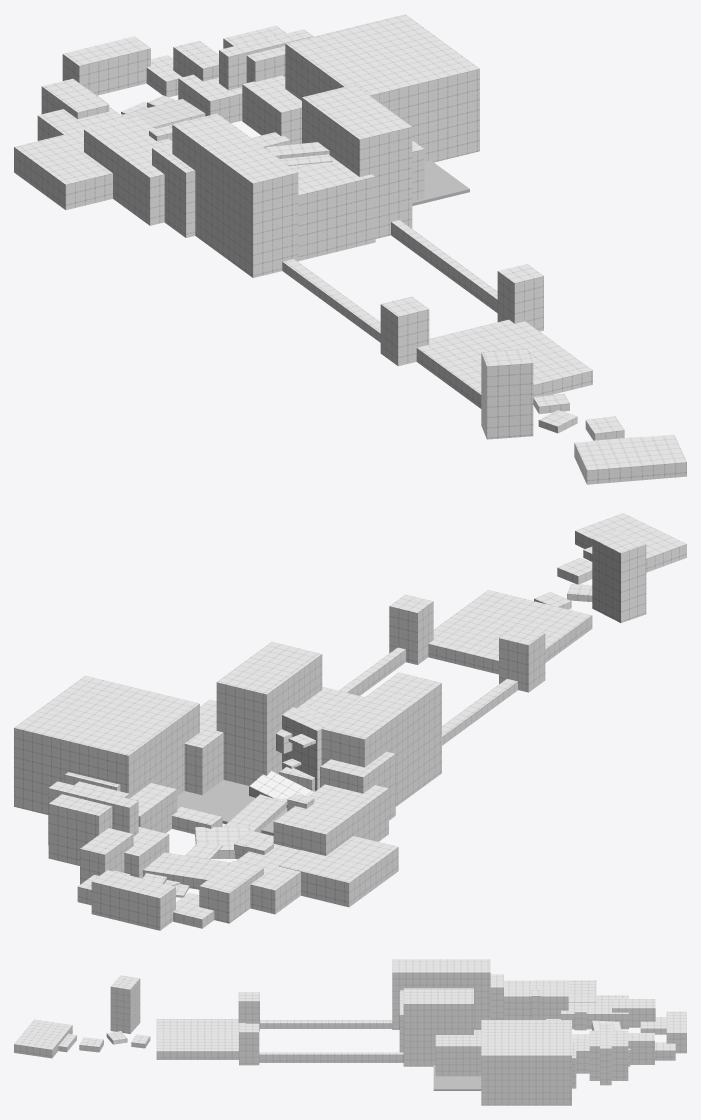
File: Blockage.fbx
3 views of the same model, one above another, from view 1: azimuth 30°, elevation 25°; view 2: azimuth 150°, elevation 25°; view 3: azimuth 270°, elevation 25° (orthographic). The views are drawn at different scales.
Parts seen in each view (by area): view 1: Cube__3__1, Cube__16_, Cube__17_, Cube_2, Cube, Cube__1__1, Cube__5__1, Cube__9__2, Cube__8__2, Cube__9__1, Cube__4__1, Cube__1__2 (+16 smaller); view 2: Cube__3__1, Cube__16_, Cube__17_, Cube_2, Cube__1__1, Cube__5__1, Cube__9__2, Cube__9__1, Cube__15_, Cube__6__1, Cube__2__1, Cube__8__2 (+20 smaller); view 3: Cube__3__1, Cube__17_, Cube__16_, Cube_2, Cube__1__1, Cube__2__1, Cube__9__2, Cube__3__2, Cube__8__2, Cube__15_, Cube__6__1, Cube__4__2 (+16 smaller).
Boxes of the visible parts, box(x1,y1,x2,y2) form: Cube__3__1: box(285, 14, 479, 162); Cube__16_: box(172, 113, 298, 277); Cube__17_: box(302, 84, 412, 238); Cube_2: box(416, 319, 592, 408); Cube: box(289, 155, 375, 261); Cube__1__1: box(84, 116, 172, 225); Cube__5__1: box(14, 130, 112, 209); Cube__9__2: box(481, 349, 533, 439); Cube__8__2: box(574, 434, 686, 484); Cube__9__1: box(62, 36, 150, 95); Cube__4__1: box(242, 75, 301, 144); Cube__1__2: box(380, 296, 429, 366); Cube__3__1: box(14, 675, 199, 814); Cube__16_: box(321, 672, 441, 806); Cube__17_: box(216, 642, 322, 785); Cube_2: box(428, 590, 592, 674); Cube__1__1: box(273, 784, 388, 855); Cube__5__1: box(279, 836, 398, 907); Cube__9__2: box(592, 530, 646, 622); Cube__9__1: box(91, 870, 175, 930); Cube__15_: box(48, 781, 129, 865); Cube__6__1: box(236, 836, 300, 914); Cube__2__1: box(184, 700, 223, 795); Cube__8__2: box(575, 513, 686, 572); Cube__3__1: box(481, 1020, 571, 1105); Cube__17_: box(403, 988, 473, 1066); Cube__16_: box(392, 959, 490, 1029); Cube_2: box(156, 1019, 245, 1059); Cube__1__1: box(504, 980, 568, 1019); Cube__2__1: box(435, 1032, 481, 1076); Cube__9__2: box(110, 975, 140, 1033); Cube__3__2: box(259, 1052, 403, 1062); Cube__8__2: box(14, 1019, 72, 1058); Cube__15_: box(589, 1030, 628, 1080); Cube__6__1: box(561, 995, 628, 1029); Cube__4__2: box(260, 1020, 392, 1028).
Bounding box in the file's own units: 3795 × 1524 × 9824.
